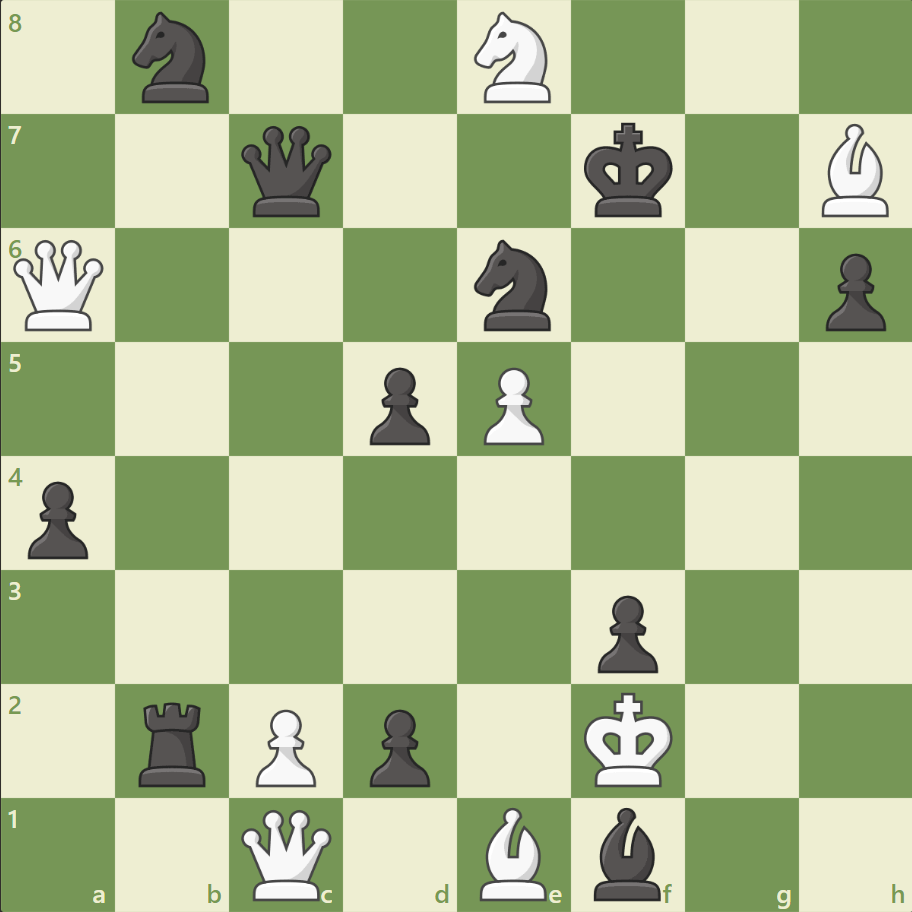B: (471, 801, 555, 904), (812, 120, 896, 222)
K: (579, 685, 679, 793)
N: (465, 7, 562, 110)
P: (474, 359, 549, 450), (247, 700, 322, 791)
Q: (10, 236, 109, 335), (237, 804, 336, 903)
b: (585, 801, 669, 904)
k: (579, 117, 679, 225)
n: (124, 7, 222, 110), (465, 234, 562, 337)
p: (20, 473, 95, 564), (815, 246, 889, 337), (361, 359, 435, 450), (588, 586, 662, 677), (361, 700, 435, 791)
q: (237, 122, 336, 222)
r: (133, 693, 215, 790)
